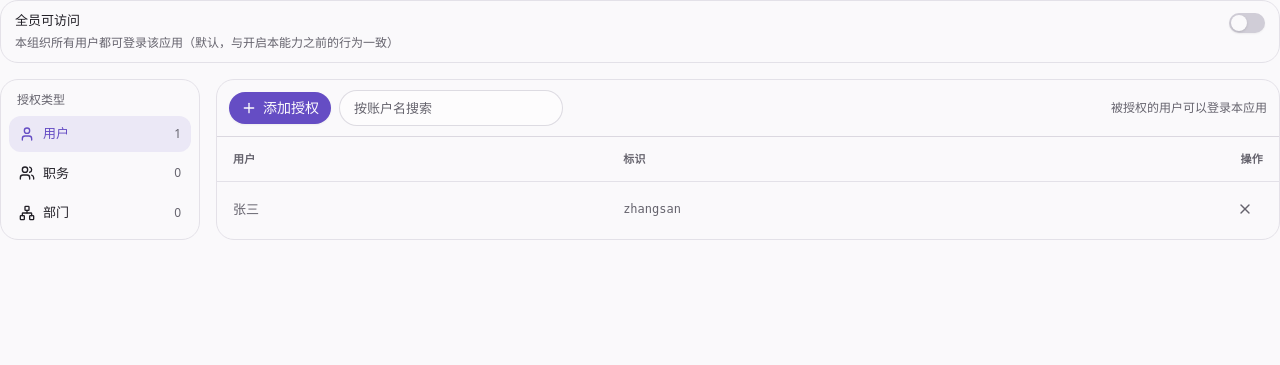
Scenario: ApplicationAccessEditor（授权类型 / 名单 左右布局） › 名单筛选：命中不到时给空态
This screenshot has width=1280, height=365.
Type "不存在的名字" into the field labelled "按账户名搜索" at (451, 108), box [339, 90, 563, 126]
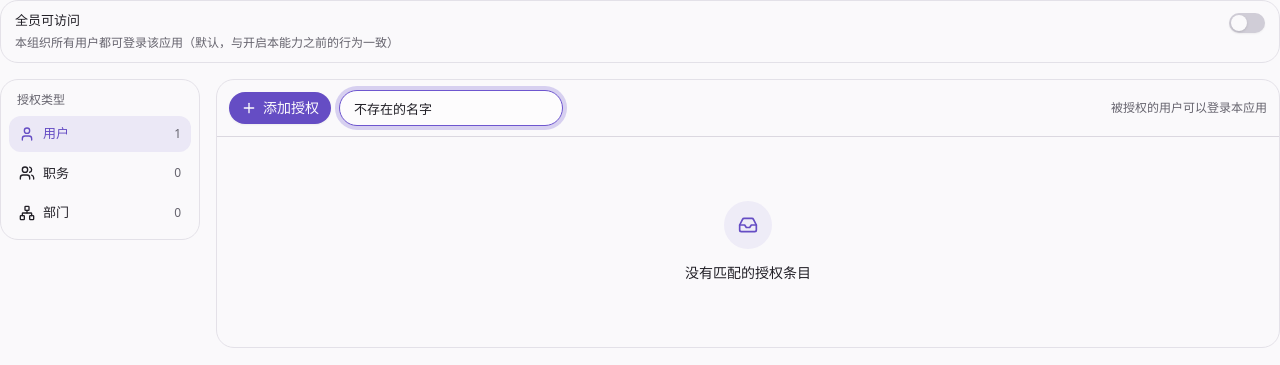
Expected: the text "没有匹配的授权条目" is shown, [685, 263, 811, 283]
Expected: the text "张三" is gone
